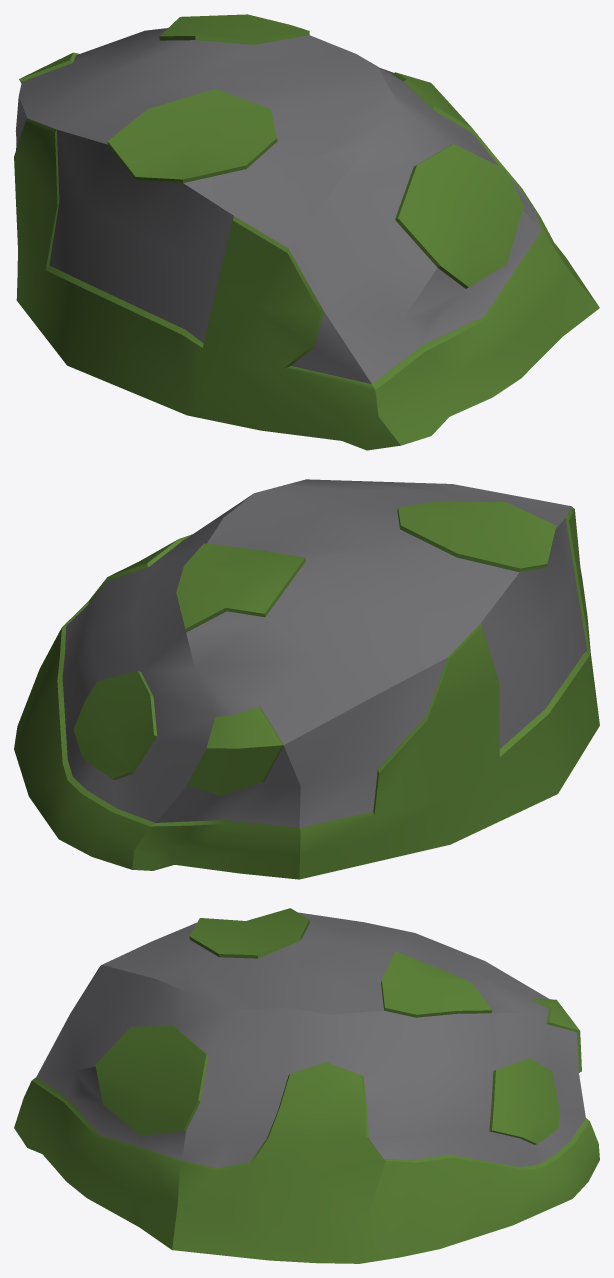
Rendered from RockMediumMoss_01.fbx.
The picture shows the model from 3 angles, top to bottom: view 1: azimuth 30°, elevation 25°; view 2: azimuth 150°, elevation 25°; view 3: azimuth 270°, elevation 25°; orthographic projection. The views are drawn at different scales.
Parts seen in each view (by area): view 1: RockMediumMoss_01; view 2: RockMediumMoss_01; view 3: RockMediumMoss_01.
Boxes of the visible parts, box(x1,y1,x2,y2) form: RockMediumMoss_01: box(14, 14, 599, 450); RockMediumMoss_01: box(14, 479, 599, 879); RockMediumMoss_01: box(14, 908, 599, 1263).
Bounding box in the file's own units: 139 × 63.64 × 175.
